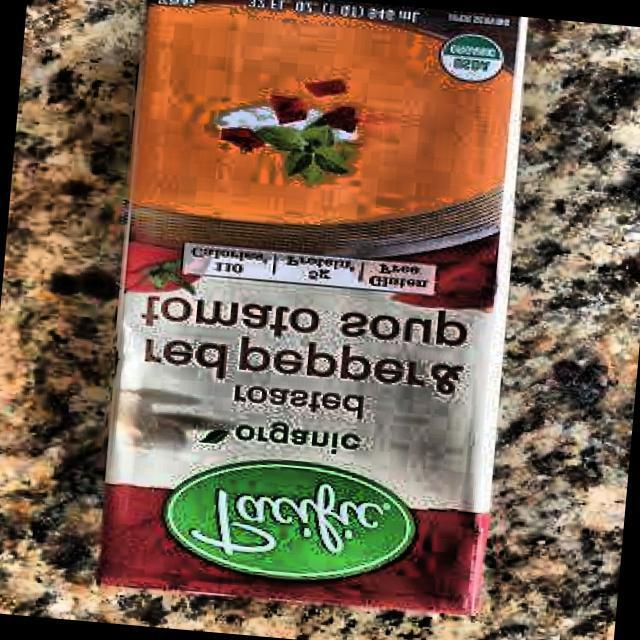cardboard: (91, 0, 532, 621)
